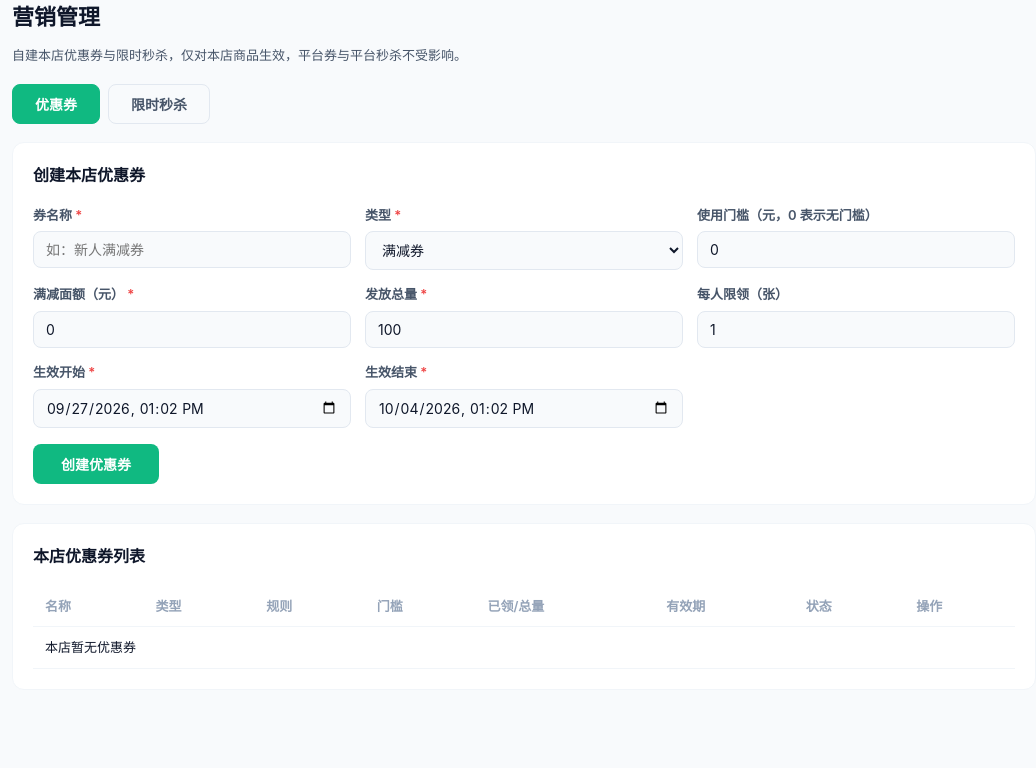
it: merchant/Marketing 营销管理（#39） › 切到秒杀页签渲染秒杀面板
This screenshot has width=1036, height=768.
Click the button with class "tab" showing "限时秒杀": (159, 104) top-left (108, 84), bottom-right (210, 124)
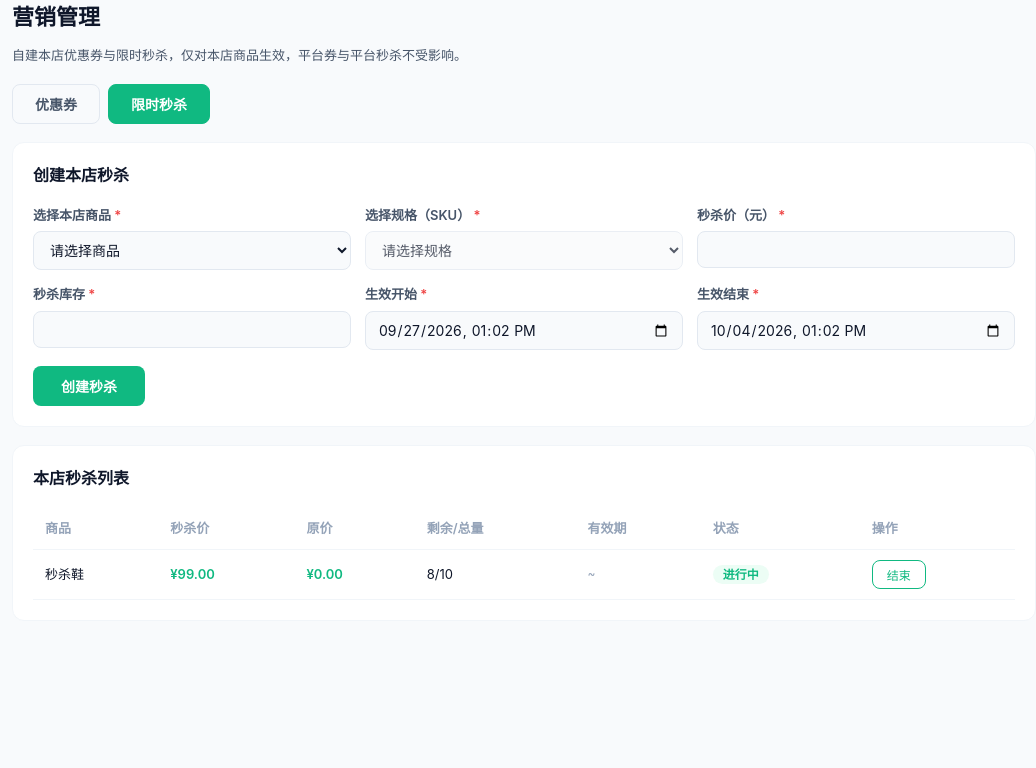
Expected: the text "限时秒杀" is shown, top-left (12, 47), bottom-right (467, 63)
Expected: the text "秒杀鞋" is shown, top-left (33, 549), bottom-right (158, 599)
